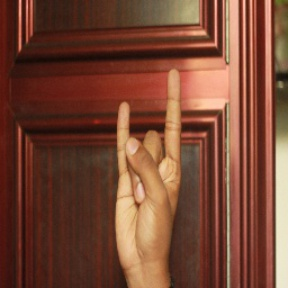V: (111, 65, 188, 267)
